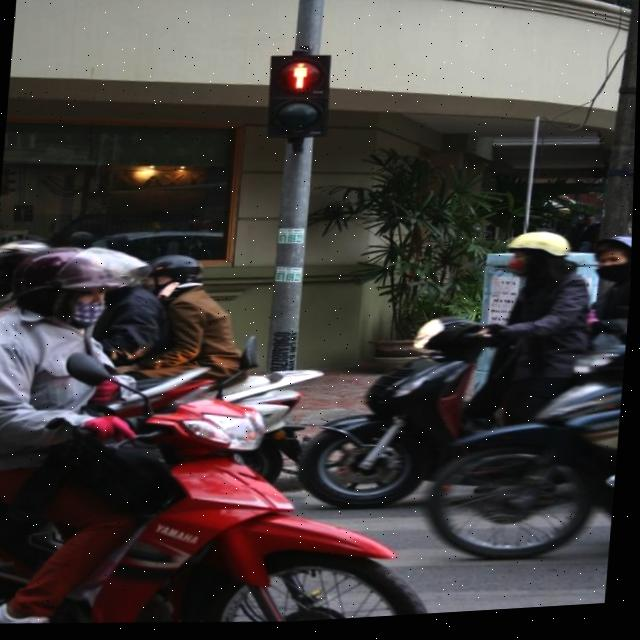motorcycle: (0, 306, 456, 640), (426, 318, 627, 576), (298, 289, 502, 511)
